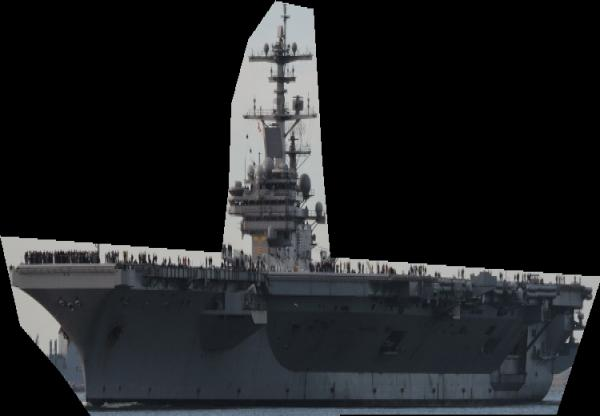Aircraft Carrier: (0, 0, 600, 416)
